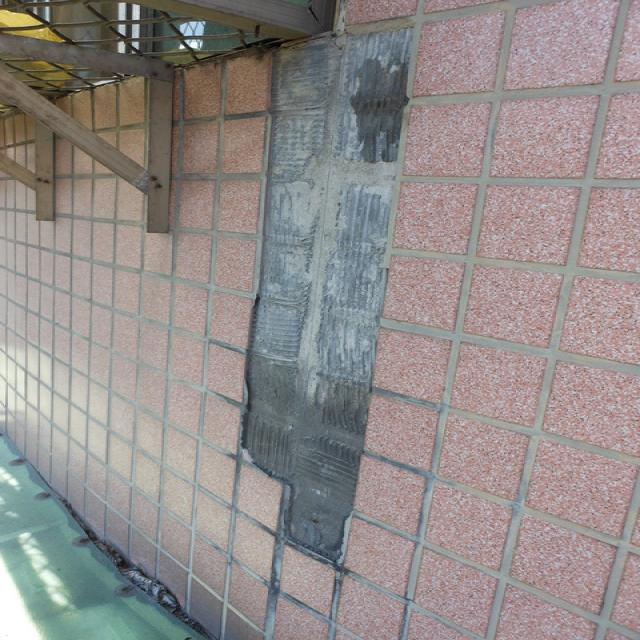tile: (244, 26, 412, 564)
